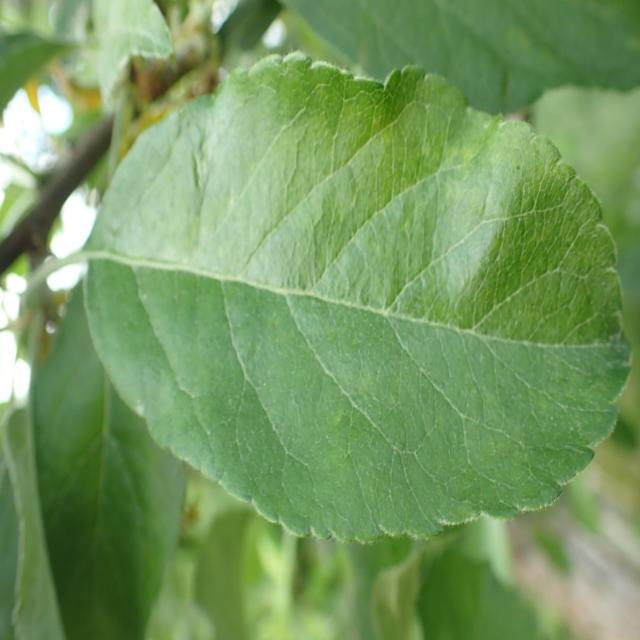scab: (88, 130, 585, 496)
